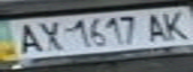1: (66, 16, 90, 48), (103, 15, 124, 46)
6: (87, 15, 109, 47)
7: (118, 11, 142, 45)
A: (6, 21, 45, 55), (139, 10, 175, 43)
K: (157, 7, 193, 42)
X: (33, 18, 66, 52)
